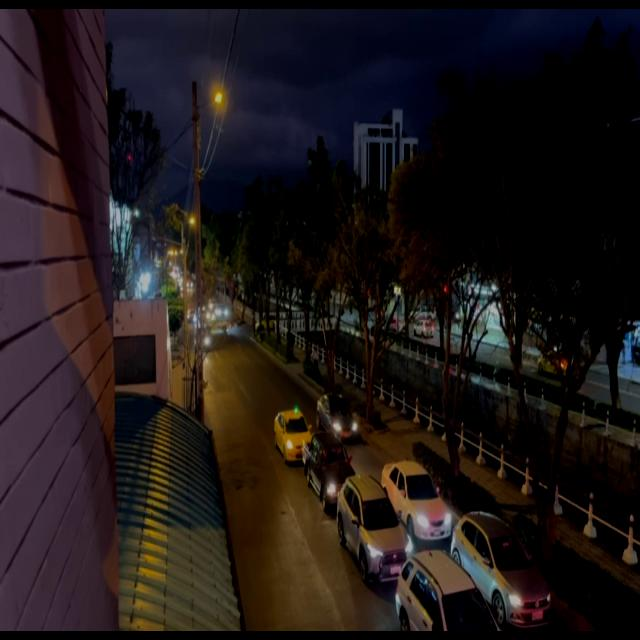CMT: (305, 440, 355, 510)
